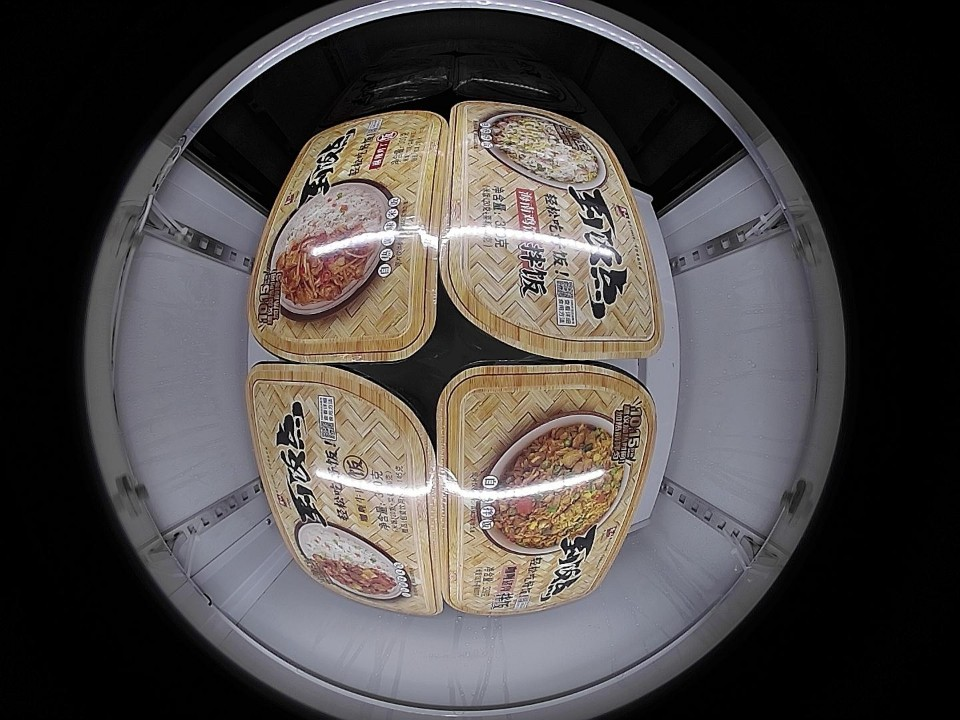daofandian1: (439, 102, 662, 363)
daofandian2: (248, 360, 445, 616)
daofandian3: (433, 358, 657, 616)
daofandian4: (249, 109, 447, 366)
